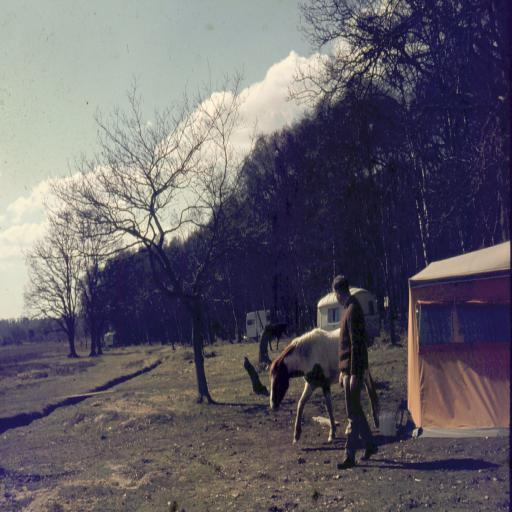horse: (270, 328, 380, 444), (266, 320, 288, 352)
